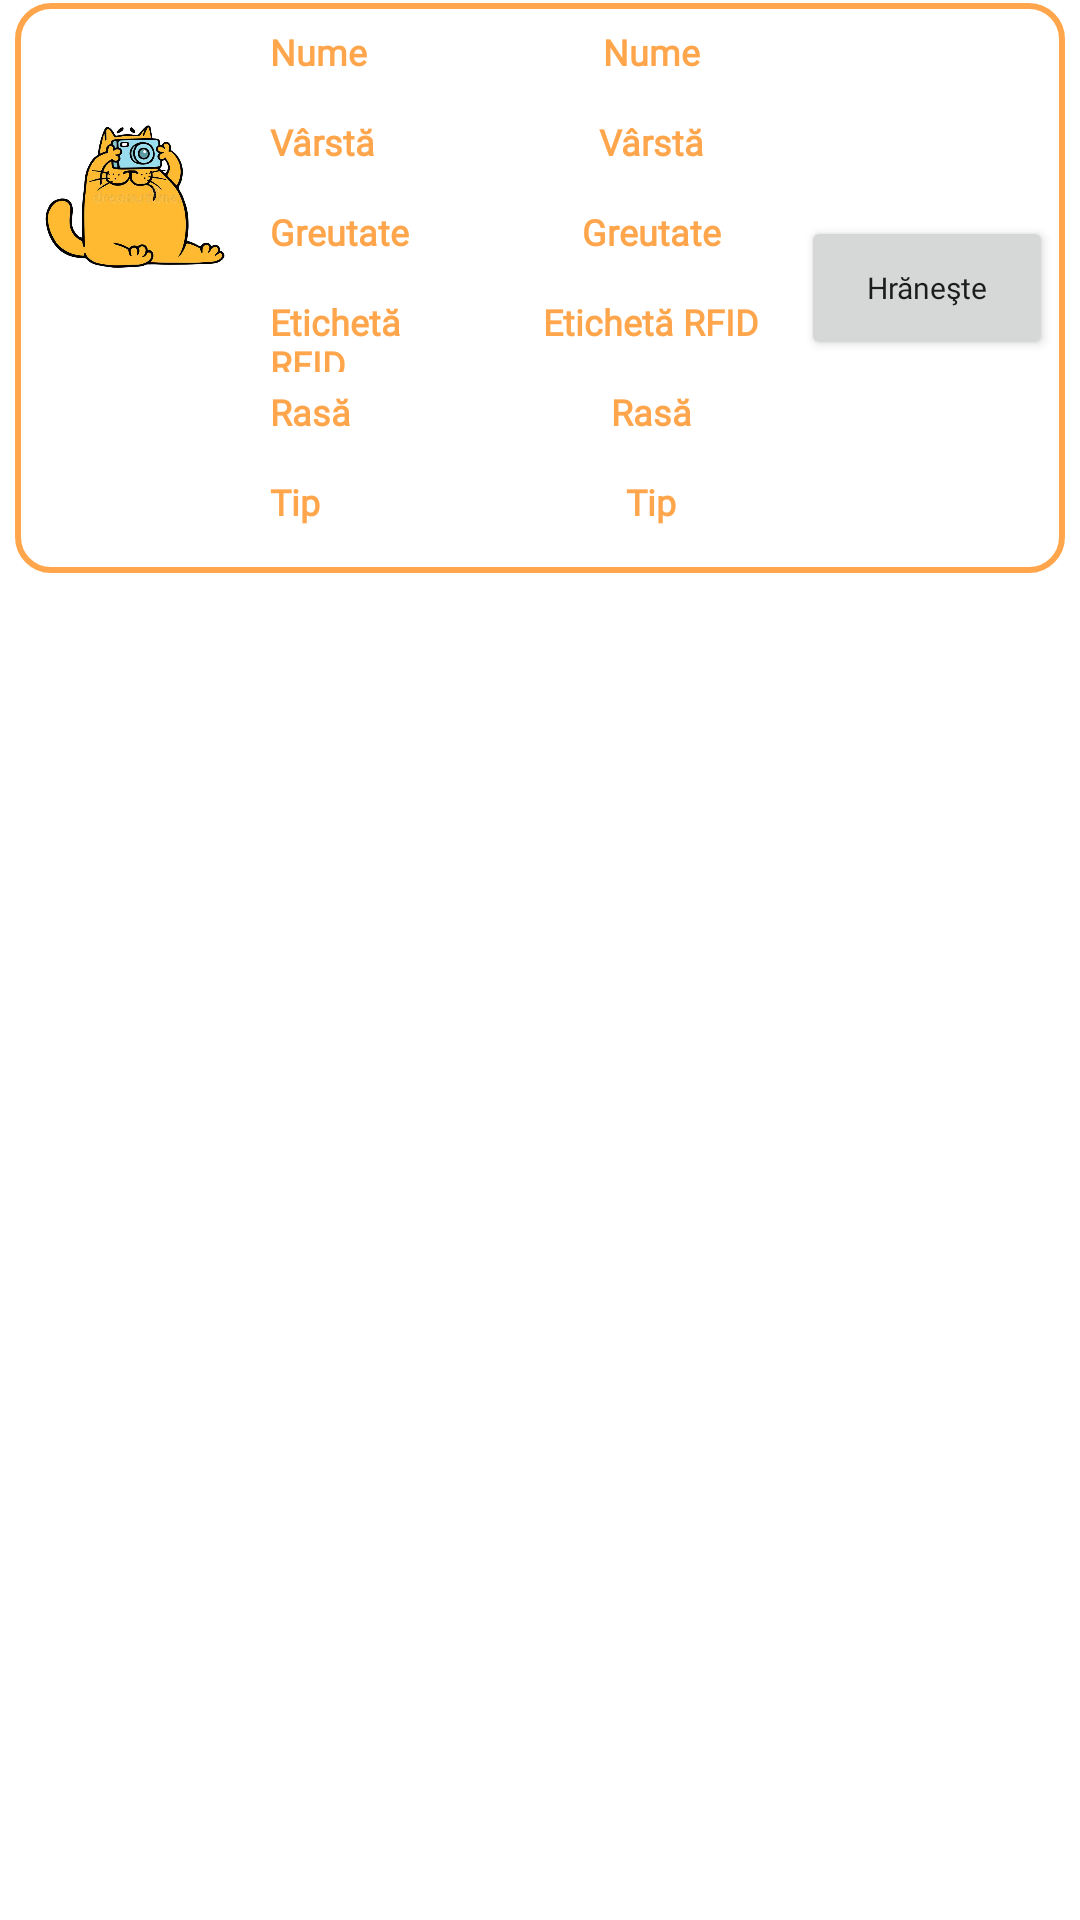

Icons on this 1080×1920 Android screen, each with the point to tap as (x,y):
petlayout: (135,196)
